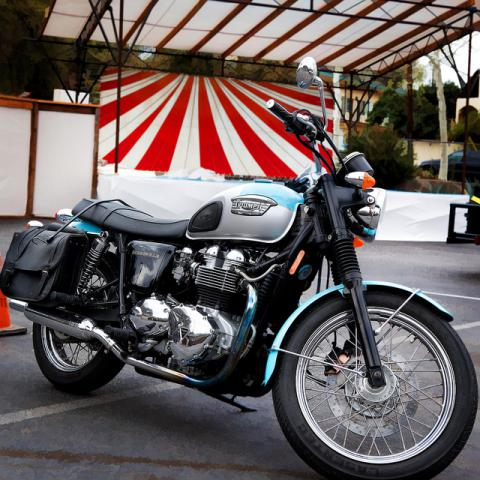motorcycle: (2, 58, 476, 473)
